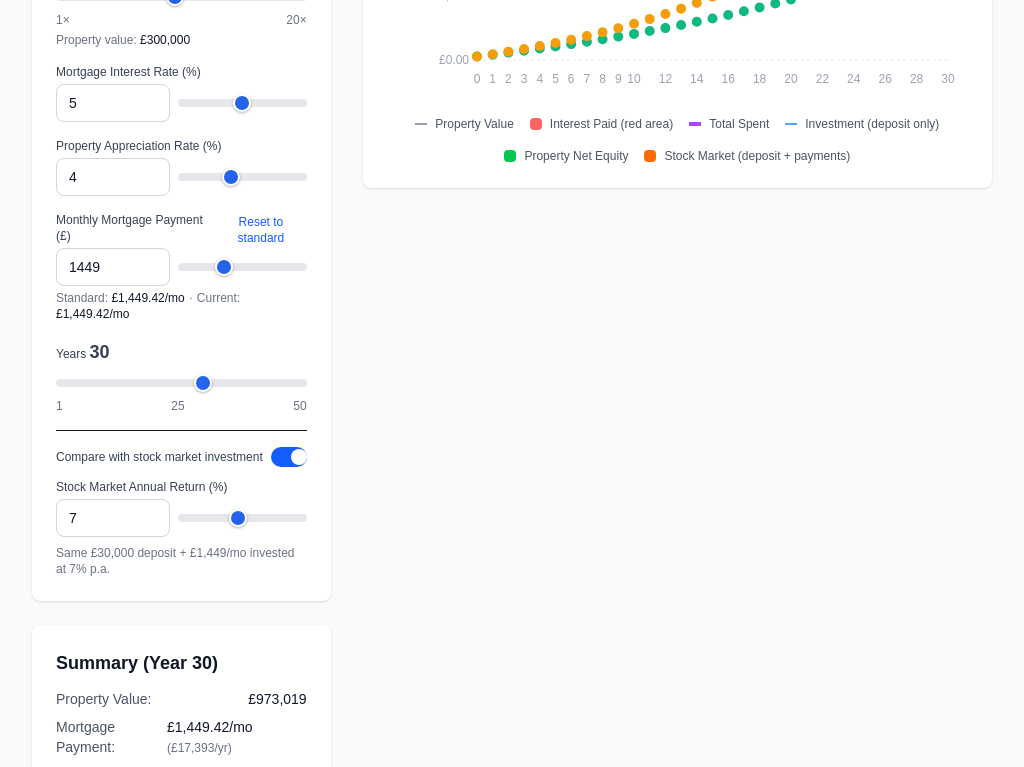
Test: MortgageComparisonCalculator component › updates summary title when years slider changes
(page scrolled)
Set the slider below "Years" to "20" at (155, 383), box [56,379,307,387]
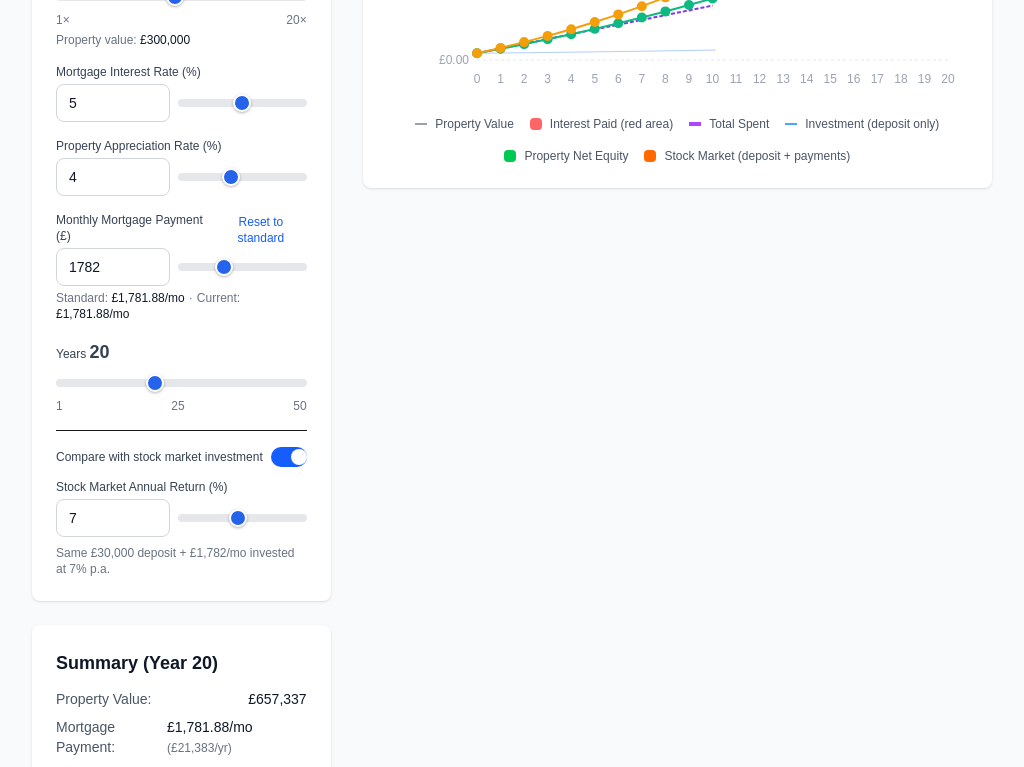
Expected: the heading "Summary (Year 20)" is shown, [56,653,218,673]
